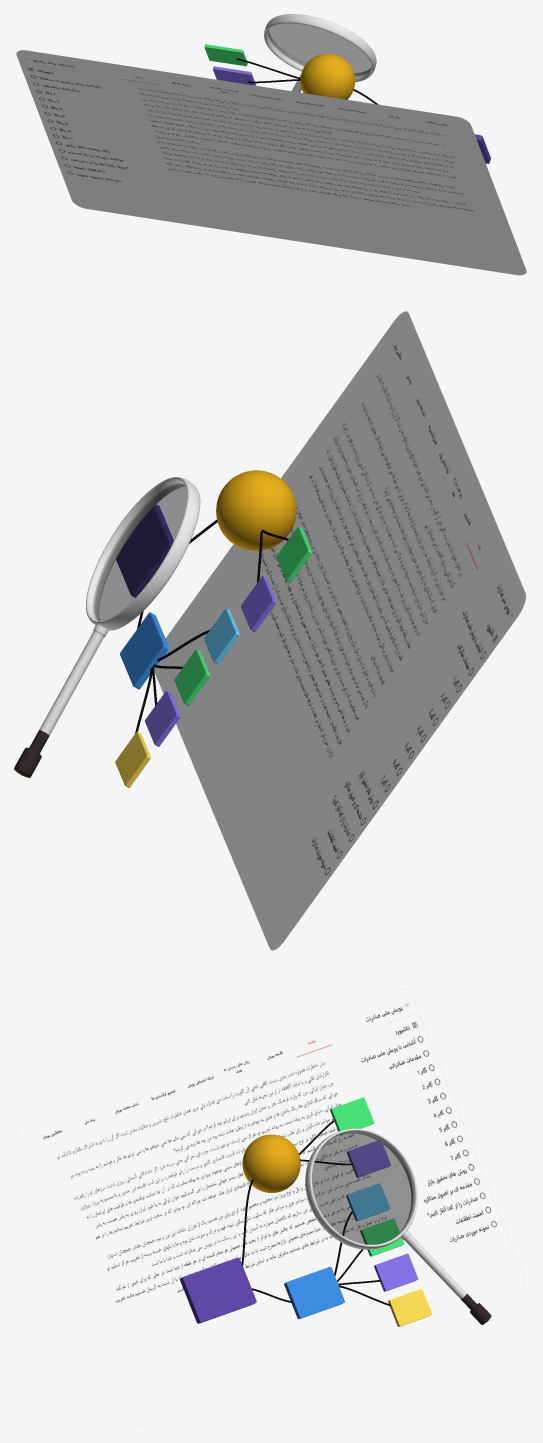
File: Service1_2.glb
3 renders of one model, top to bottom at view 1: azimuth 30°, elevation 25°; view 2: azimuth 150°, elevation 25°; view 3: azimuth 270°, elevation 25°, orthographic. The views are drawn at different scales.
Parts seen in each view (by area): view 1: 0fe7b9f0-7982-4a6d-91cf-1f53dc1c7d99, Sphere_Material.001_0, Sphere, Cylinder, Cube.006, Cube.007, CurlyCurve.002; view 2: 0fe7b9f0-7982-4a6d-91cf-1f53dc1c7d99, Sphere_Material.001_0, Cylinder, Sphere, Cube, Cylinder.001, Cube.001, Cube.006, Cube.004, Cube.003, Cube.002, Cube.007 (+2 smaller); view 3: 0fe7b9f0-7982-4a6d-91cf-1f53dc1c7d99, Sphere_Material.001_0, Cube, Sphere, Cylinder, Cube.001, Cylinder.001, Cube.005, Cube.004, Cube.002, Cube.007, CurlyCurve.002 (+2 smaller).
Part boxes in pixels (x1,y1,x2,y2): 0fe7b9f0-7982-4a6d-91cf-1f53dc1c7d99: [16, 50, 526, 275]; Sphere_Material.001_0: [268, 23, 371, 76]; Sphere: [300, 53, 354, 99]; Cylinder: [264, 14, 376, 82]; Cube.006: [204, 44, 247, 66]; Cube.007: [213, 66, 256, 85]; CurlyCurve.002: [236, 58, 378, 104]; 0fe7b9f0-7982-4a6d-91cf-1f53dc1c7d99: [154, 311, 525, 950]; Sphere_Material.001_0: [93, 483, 186, 620]; Cylinder: [86, 477, 200, 630]; Sphere: [216, 470, 296, 550]; Cube: [116, 504, 173, 597]; Cylinder.001: [14, 623, 108, 777]; Cube.001: [120, 612, 168, 689]; Cube.006: [276, 526, 312, 582]; Cube.004: [145, 690, 180, 746]; Cube.003: [174, 649, 210, 705]; Cube.002: [204, 608, 239, 664]; Cube.007: [241, 576, 276, 632]; 0fe7b9f0-7982-4a6d-91cf-1f53dc1c7d99: [18, 988, 524, 1425]; Sphere_Material.001_0: [312, 1133, 412, 1244]; Cube: [180, 1257, 256, 1323]; Sphere: [242, 1134, 300, 1192]; Cylinder: [305, 1128, 417, 1249]; Cube.001: [284, 1267, 344, 1319]; Cylinder.001: [400, 1230, 491, 1324]; Cube.005: [388, 1289, 432, 1326]; Cube.004: [374, 1253, 418, 1291]; Cube.002: [346, 1183, 390, 1221]; Cube.007: [347, 1141, 390, 1177]; CurlyCurve.002: [241, 1120, 390, 1306].
Size of the model in its own units: 1.45 by 0.8192 by 1.57.
15 materials, 1 textured.
